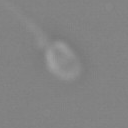normal: (5, 1, 49, 45)
